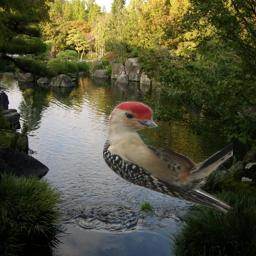Woodpecker: (103, 101, 233, 215)
